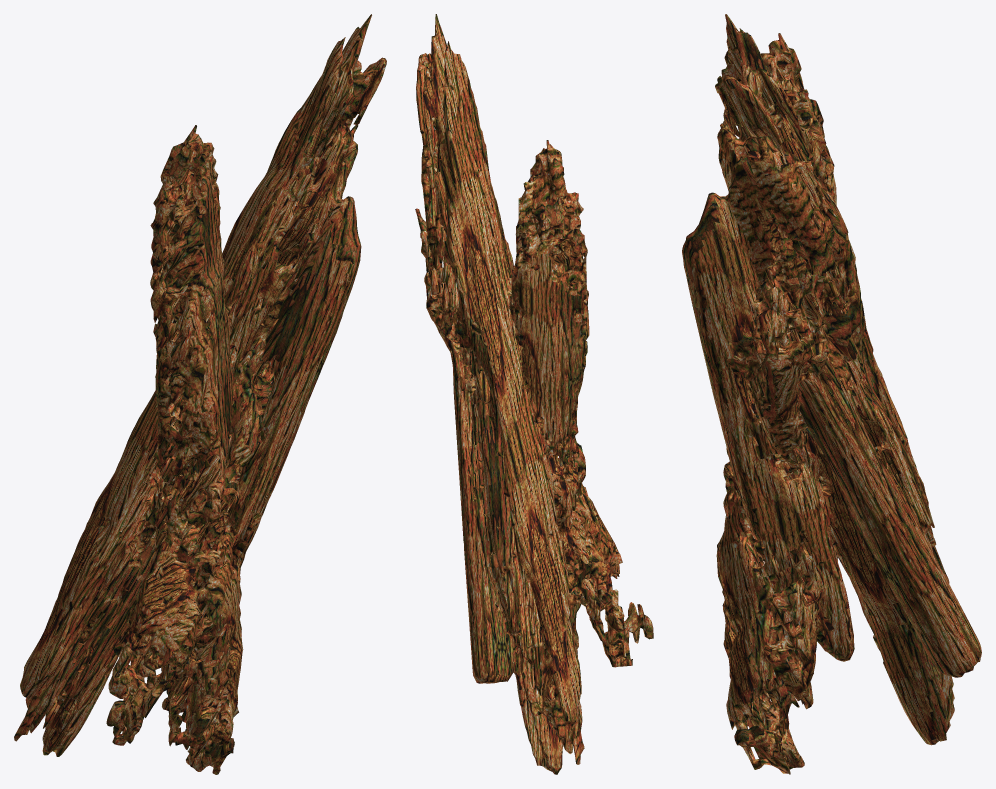
File: dmtree2.glb
3 renders of one model, left to right at view 1: azimuth 30°, elevation 25°; view 2: azimuth 150°, elevation 25°; view 3: azimuth 270°, elevation 25°, orthographic. The views are drawn at different scales.
Parts seen in each view (by area): view 1: jump_rope_246.013; view 2: jump_rope_246.013; view 3: jump_rope_246.013.
Boxes of the visible parts, x1=… form: jump_rope_246.013: x1=14, y1=14, x2=386, y2=774; jump_rope_246.013: x1=415, y1=14, x2=653, y2=774; jump_rope_246.013: x1=682, y1=14, x2=981, y2=774.
Size of the model in its own units: 0.3655 by 0.9511 by 0.3022.
1 material, 1 textured.
